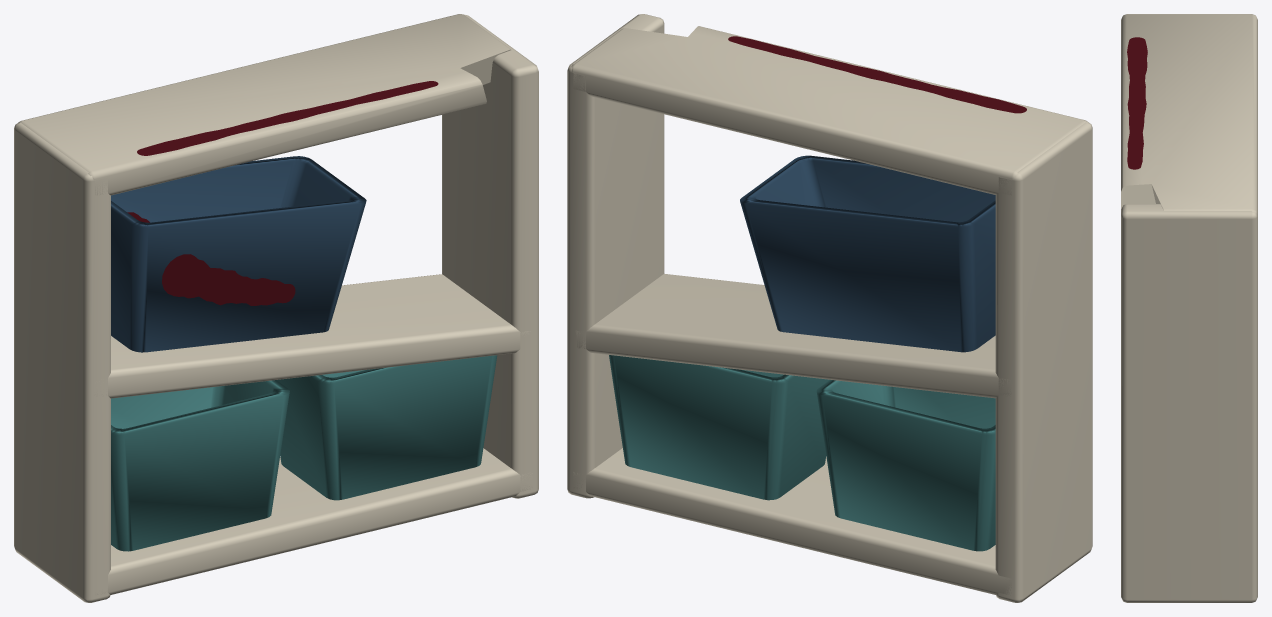
Rendered from wall_shelf.glb.
3 views of the same model, side by side, from view 1: azimuth 30°, elevation 25°; view 2: azimuth 150°, elevation 25°; view 3: azimuth 270°, elevation 25° (orthographic). The views are drawn at different scales.
Parts seen in each view (by area): view 1: OB_UtilityWallShelf_01_Static; view 2: OB_UtilityWallShelf_01_Static; view 3: OB_UtilityWallShelf_01_Static.
Part boxes in pixels (box(x1,y1,x2,y2)): OB_UtilityWallShelf_01_Static: box(14, 14, 538, 602); OB_UtilityWallShelf_01_Static: box(567, 14, 1092, 602); OB_UtilityWallShelf_01_Static: box(1121, 14, 1257, 602).
Size of the model in its own units: 1.09 by 0.9831 by 0.31.
